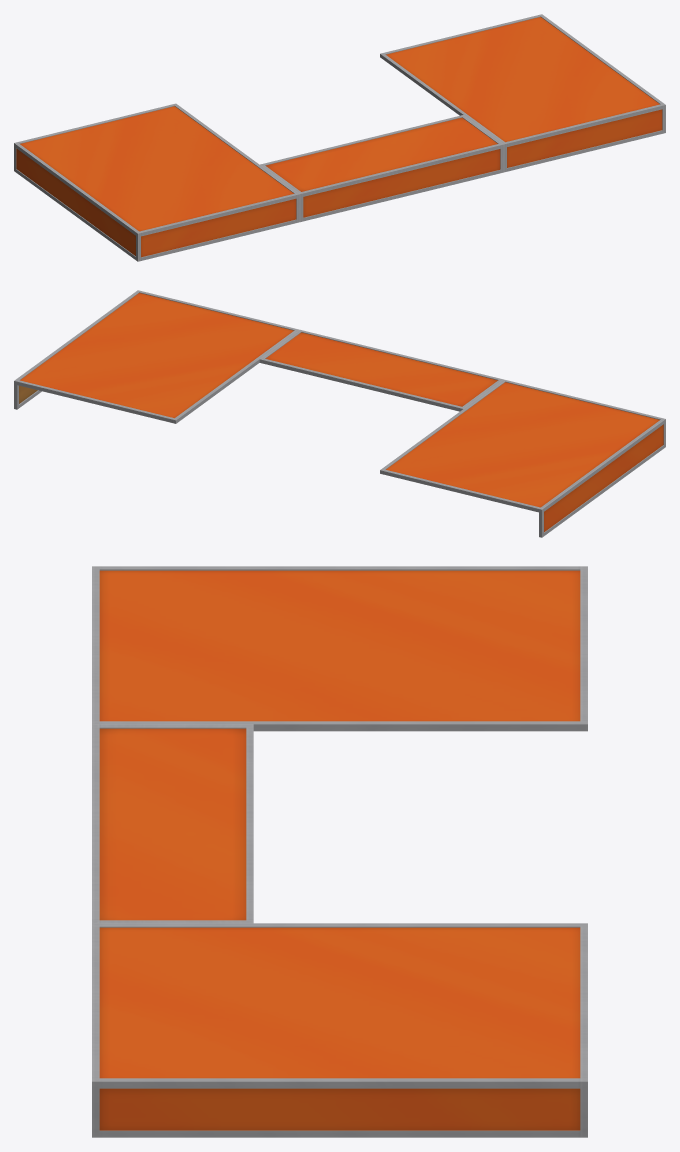
The model's file is jsf_2P_s02_c01_t02_DX.fbx.
3 views of the same model, one above another, from view 1: azimuth 30°, elevation 25°; view 2: azimuth 150°, elevation 25°; view 3: azimuth 270°, elevation 25° (orthographic). The views are drawn at different scales.
Parts seen in each view (by area): view 1: jsf_2P_s02_c01_t02_DX; view 2: jsf_2P_s02_c01_t02_DX; view 3: jsf_2P_s02_c01_t02_DX.
Part boxes in pixels (bbox=[...]): jsf_2P_s02_c01_t02_DX: bbox=[14, 14, 665, 261]; jsf_2P_s02_c01_t02_DX: bbox=[14, 290, 665, 537]; jsf_2P_s02_c01_t02_DX: bbox=[92, 566, 587, 1137].
Size of the model in its own units: 246 by 12.51 by 100.
